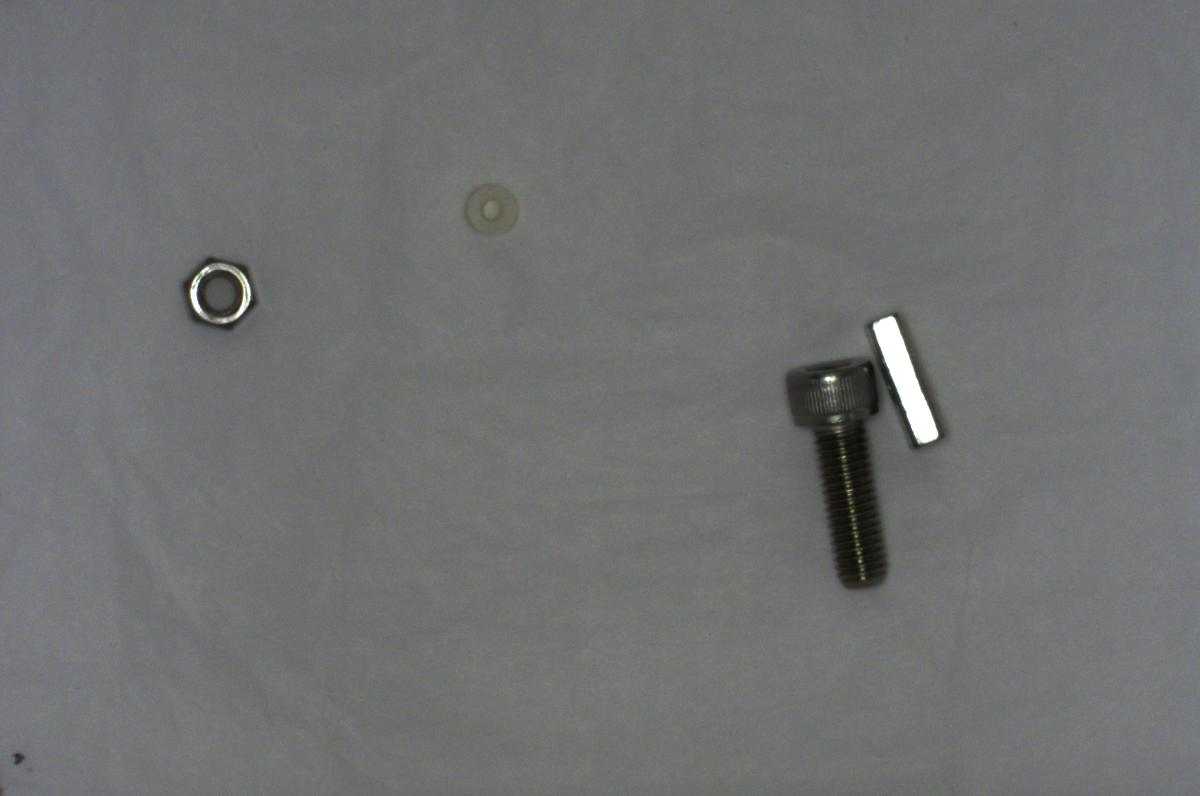Hexagon nut: (173, 240, 259, 336)
Hexagon screw: (774, 350, 894, 600)
Plastic cushion pillar: (455, 173, 530, 245)
Rectangular nut: (861, 303, 950, 450)
